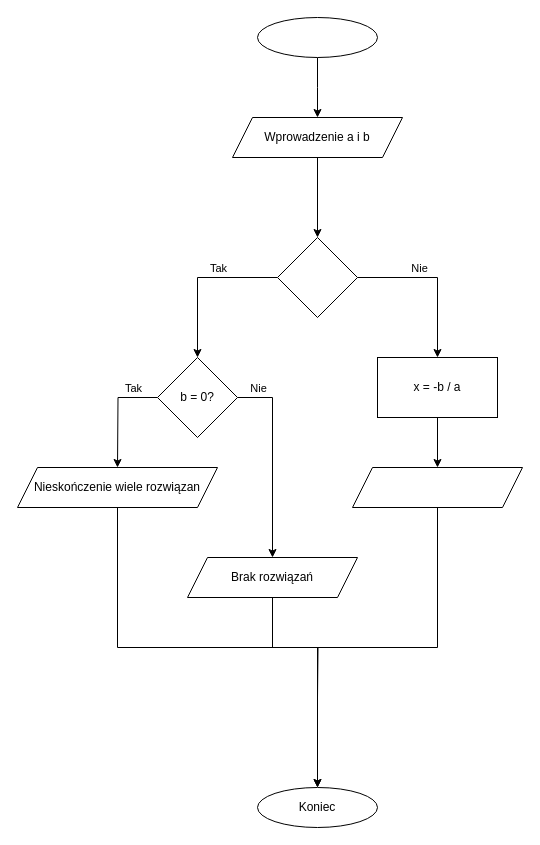
This 540x845 diagram has some shape labels left out. Here are the shapes that lost their labels. From the top down, the centre of each, then its label:
the point at 317,37: Początek
the point at 317,277: a = 0?
the point at 437,487: Wyświetlanie wyniku
